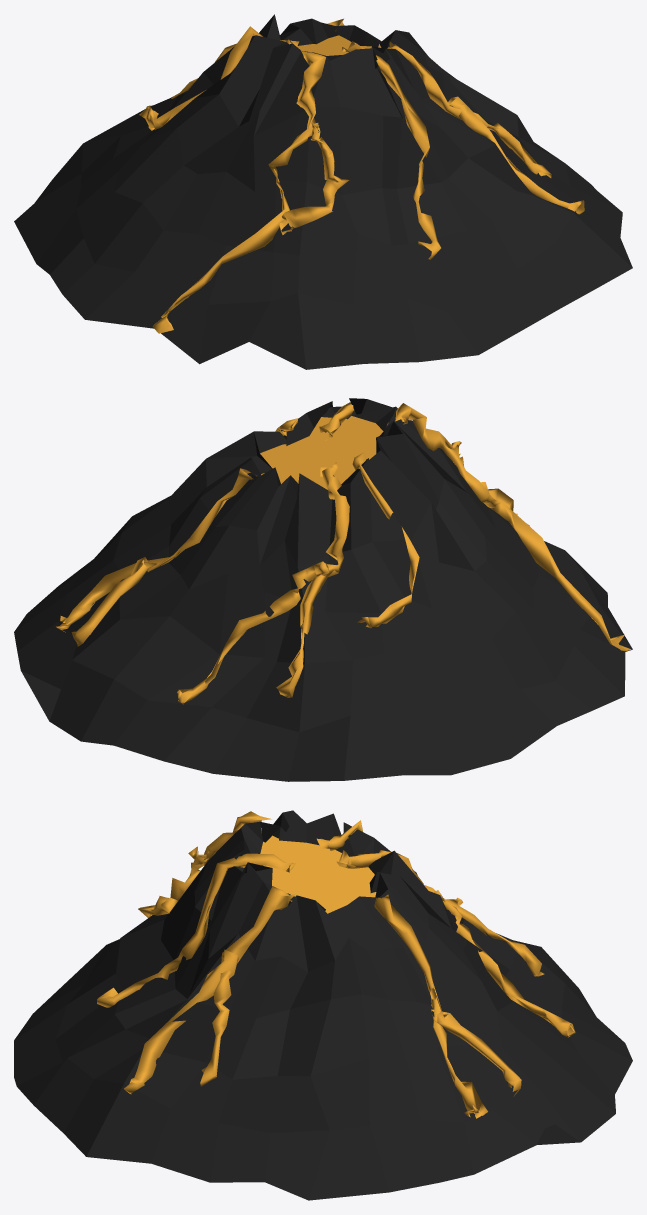
The model's file is Volc.fbx.
3 views of the same model, one above another, from view 1: azimuth 30°, elevation 25°; view 2: azimuth 150°, elevation 25°; view 3: azimuth 270°, elevation 25° (orthographic). The views are drawn at different scales.
Parts seen in each view (by area): view 1: Cylinder, BezierCurve; view 2: Cylinder, BezierCurve; view 3: Cylinder, BezierCurve.
Boxes of the visible parts, left/top/right/bottom form: Cylinder: left=14, top=14, right=632, bottom=369; BezierCurve: left=139, top=18, right=584, bottom=333; Cylinder: left=14, top=398, right=632, bottom=781; BezierCurve: left=56, top=402, right=631, bottom=704; Cylinder: left=14, top=810, right=632, bottom=1200; BezierCurve: left=97, top=811, right=575, bottom=1118.
Size of the model in its own units: 606 by 255 by 599.
